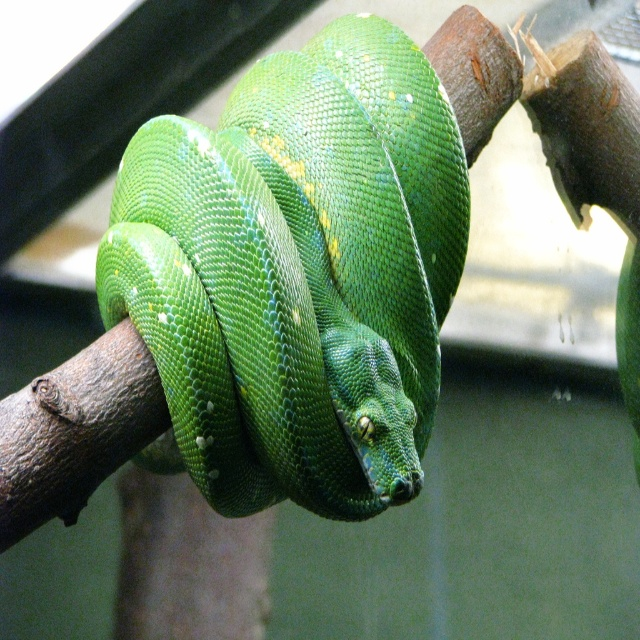Snake: (95, 12, 471, 523), (615, 239, 640, 488)
